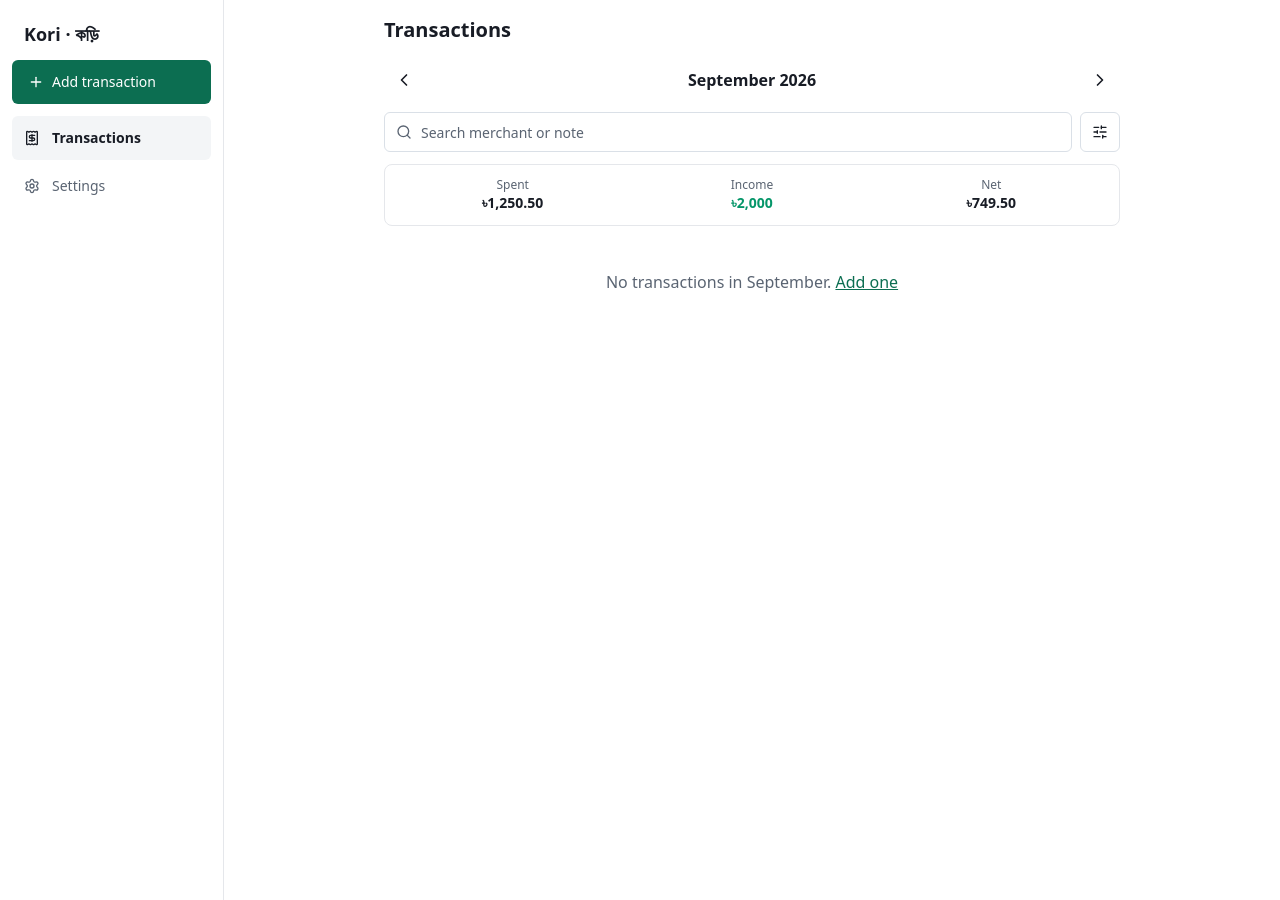
it: transactions list › shows the empty state and opens the add sheet
Check: the text "No transactions in September. Add one" is shown, box x1=606 y1=270 x2=898 y2=294
Click the button "Add one": (867, 282) x1=835 y1=270 x2=898 y2=294
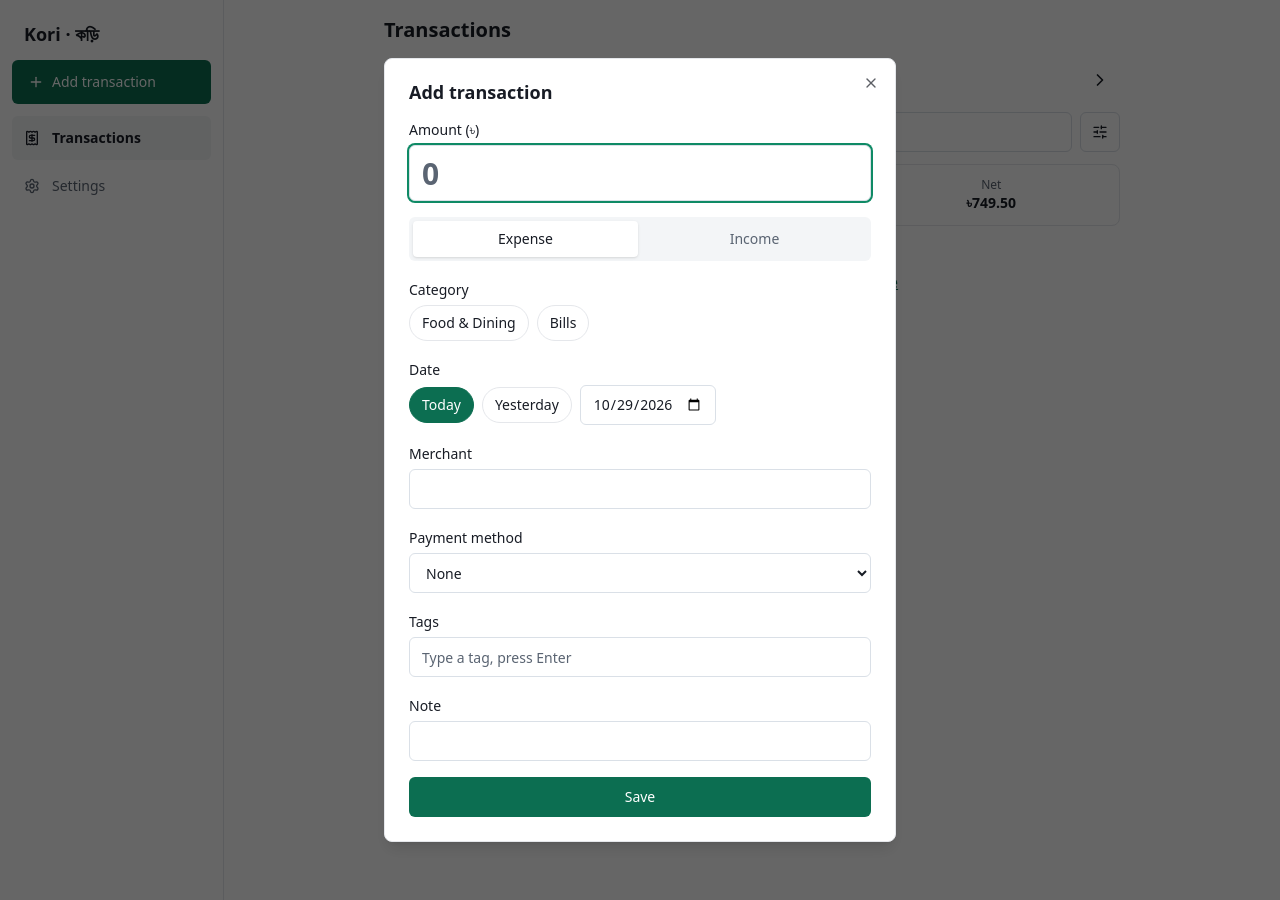
Check: the dialog shows "Add transaction", box x1=409 y1=80 x2=553 y2=104
